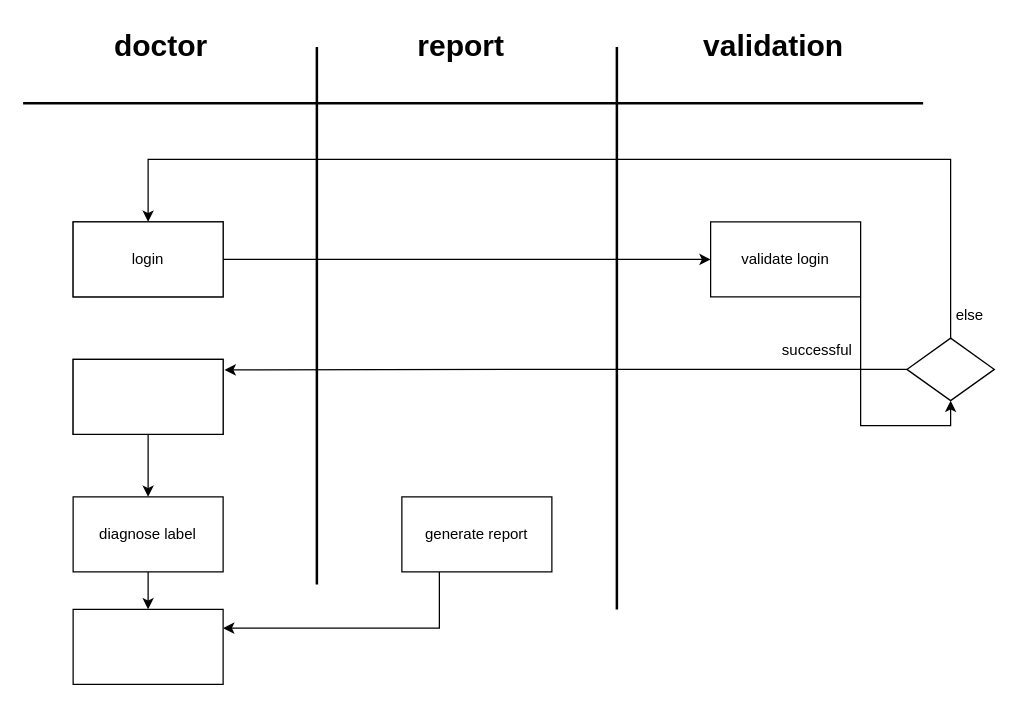
Image size: 1016x706. Some labels were removed from this diagram. The shapes that lost their labels are listed below. From the top down, each one's centre as x and y in pixels, then its label:
(147,396): view xray
(147,646): view report
